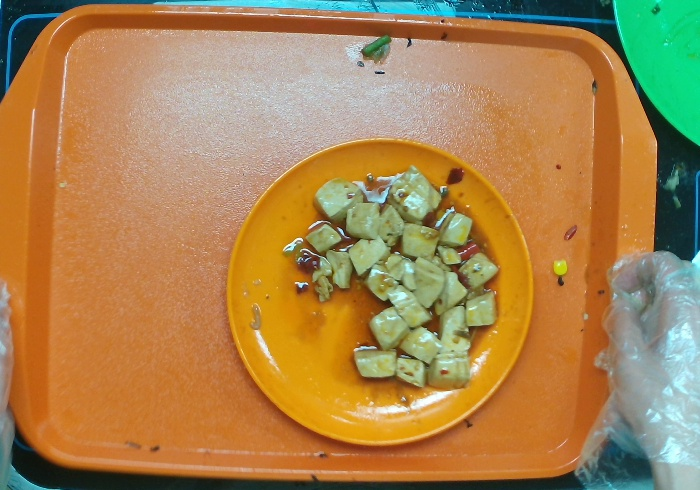HZYJPL-Ju_Huang_Yuan_Pan: (224, 136, 533, 448)
